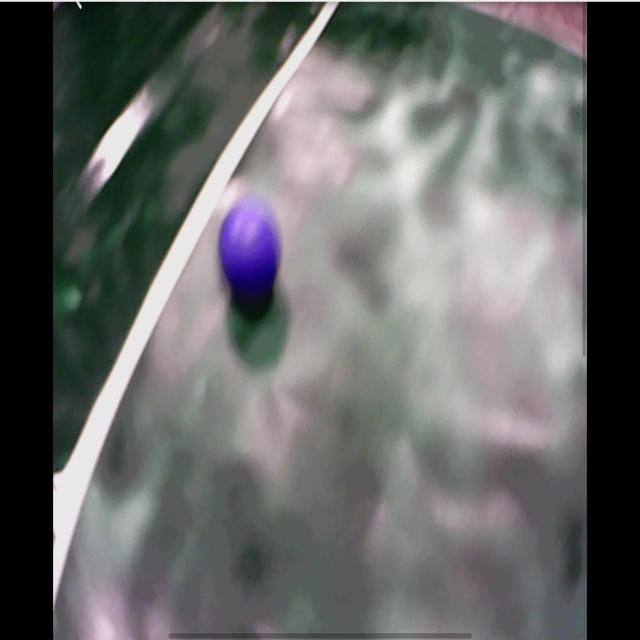ball: (219, 200, 279, 297)
